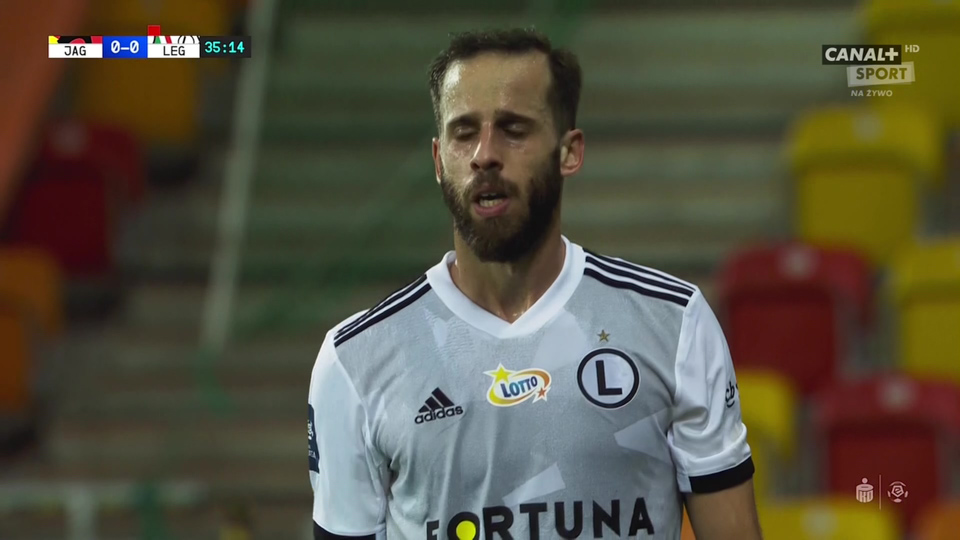Adidas: (410, 387, 466, 425)
